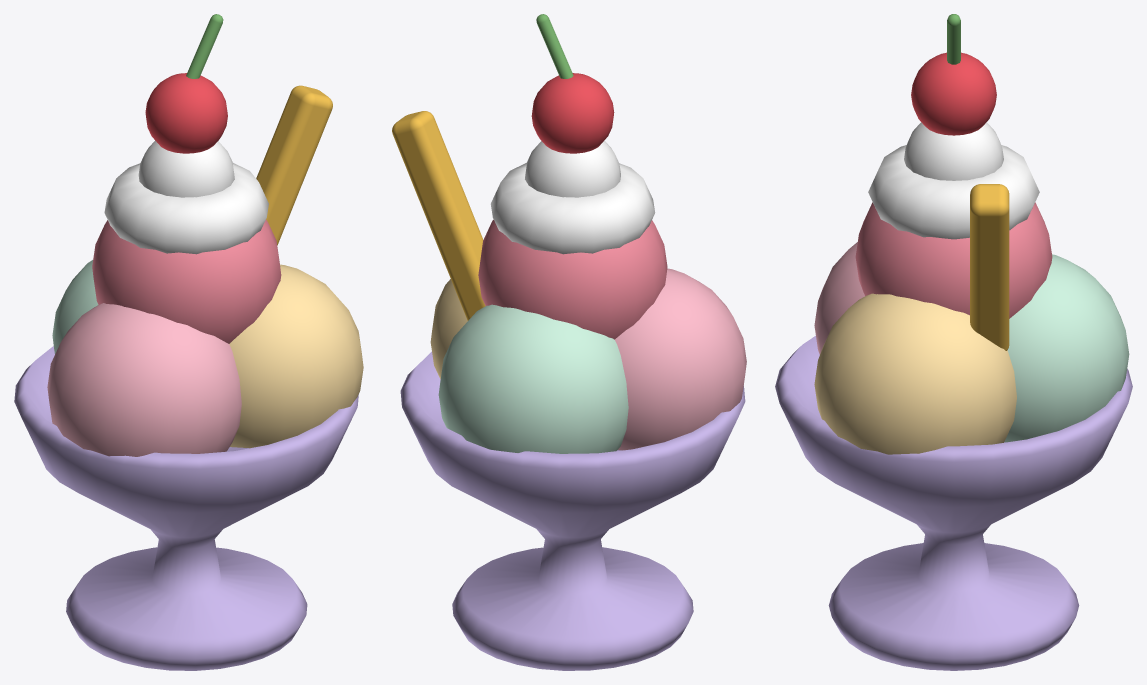
The model's file is food_sundae.glb.
3 views of the same model, side by side, from view 1: azimuth 30°, elevation 25°; view 2: azimuth 150°, elevation 25°; view 3: azimuth 270°, elevation 25° (orthographic). The views are drawn at different scales.
Parts seen in each view (by area): view 1: BerrySundae; view 2: BerrySundae; view 3: BerrySundae.
Part boxes in pixels (left/top/right/bottom): BerrySundae: left=14, top=14, right=363, bottom=670; BerrySundae: left=392, top=14, right=746, bottom=670; BerrySundae: left=775, top=14, right=1132, bottom=670.
Bounding box in the file's own units: 0.2054 × 0.3839 × 0.2.
